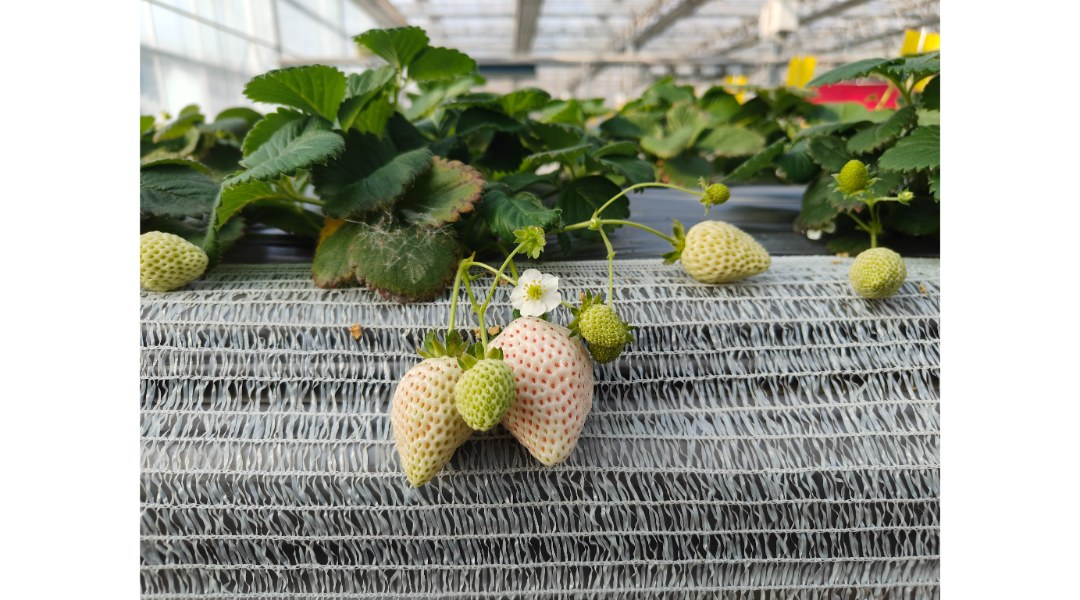berry: (376, 329, 479, 502), (502, 314, 596, 484), (112, 222, 216, 296), (666, 215, 771, 287), (459, 344, 523, 436), (837, 243, 910, 307), (582, 290, 628, 358), (829, 154, 877, 200), (511, 222, 555, 257), (699, 168, 731, 214)
flower: (511, 259, 572, 338)
strain: (607, 165, 696, 211), (614, 213, 680, 249), (601, 237, 619, 287), (448, 274, 462, 337)
